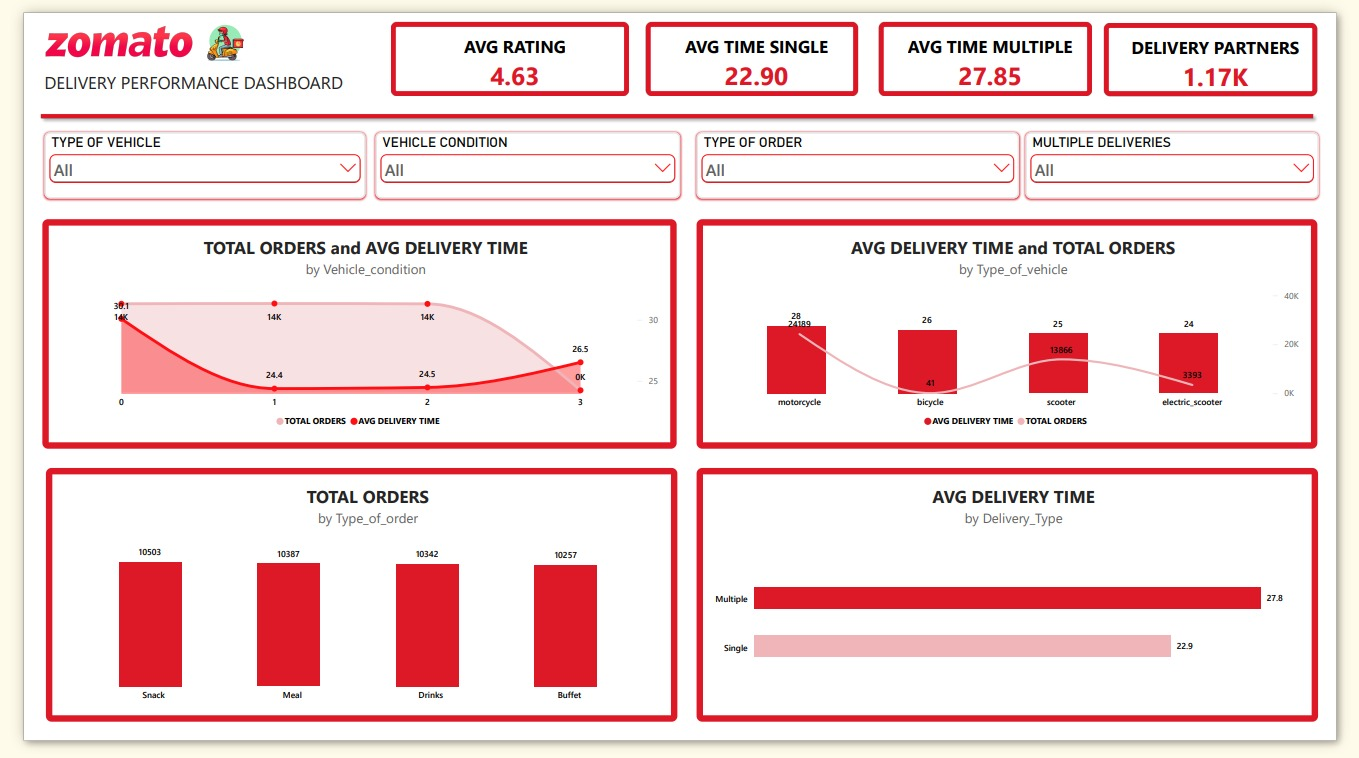

The page's visual inventory and layout, read from the dashboard file:
{"tool":"powerbi","page":{"name":"Delivery Partner Insights","canvas":[1920,1080],"ordinal":1},"visuals":[{"type":"shape","box":[20,3.6,1881.8,1060],"z":0},{"type":"image","box":[68.2,3.8,208.5,119.4],"z":1000},{"type":"textbox","box":[68.2,104.3,451.2,34.1],"z":2000},{"type":"cardVisual","fields":{"Data":["Zomato Dataset.Avg Rating"]},"box":[555.5,36,333.7,104.3],"z":3000},{"type":"shape","box":[55,123.2,1802.8,91],"z":4000},{"type":"cardVisual","fields":{"Data":["Zomato Dataset.Avg Time Single"]},"box":[911.9,36,299.5,104.3],"z":5000},{"type":"cardVisual","fields":{"Data":["Zomato Dataset.Avg Time Multiple"]},"box":[1239.8,36,299.5,104.3],"z":6000},{"type":"cardVisual","fields":{"Data":["Zomato Dataset.Delivery Partners"]},"box":[1556.4,38.2,299.5,102.4],"z":7000},{"type":"columnChart","fields":{"Category":["Zomato Dataset.Type_of_order"],"Y":["Zomato Dataset.Total Orders"]},"box":[69.6,662.5,887.5,355.4],"z":8000},{"type":"lineChart","fields":{"Category":["Zomato Dataset.Vehicle_condition"],"Y":["Zomato Dataset.Total Orders"],"Y2":["Zomato Dataset.Avg Delivery Time"]},"box":[65.5,312.7,890.9,321.8],"z":9000},{"type":"slicer","fields":{"Values":["Zomato Dataset.multiple_deliveries"]},"box":[1446.4,191.5,411.4,92.9],"z":10000},{"type":"lineClusteredColumnComboChart","fields":{"Category":["Zomato Dataset.Type_of_vehicle"],"Y":["Zomato Dataset.Avg Delivery Time"],"Y2":["Zomato Dataset.Total Orders"]},"box":[983.6,312.7,872.7,321.8],"z":11000},{"type":"clusteredBarChart","fields":{"Category":["Zomato Dataset.Delivery_Type"],"Y":["Zomato Dataset.Avg Delivery Time"]},"box":[983.9,662.5,873.2,355.4],"z":12000},{"type":"image","box":[200.9,30.3,240.8,68.2],"z":13000},{"type":"slicer","fields":{"Values":["Zomato Dataset.Type_of_order"]},"box":[983.9,191.5,453.1,92.9],"z":14000},{"type":"slicer","fields":{"Values":["Zomato Dataset.Vehicle_condition"]},"box":[532.7,191.5,428.4,92.9],"z":15000},{"type":"slicer","fields":{"Values":["Zomato Dataset.Type_of_vehicle"]},"box":[68.2,191.5,451.2,92.9],"z":16000}]}

Visuals, with their boxes in screenshot pixels (x1, y1, x2, y2), scaled from the page's 1920x1080 canvas onto the 1359x758 screenshot:
shape: <bbox>14, 3, 1346, 746</bbox>
image: <bbox>48, 3, 196, 86</bbox>
textbox: <bbox>48, 73, 368, 97</bbox>
cardVisual - Zomato Dataset.Avg Rating: <bbox>393, 25, 629, 98</bbox>
shape: <bbox>39, 86, 1315, 150</bbox>
cardVisual - Zomato Dataset.Avg Time Single: <bbox>645, 25, 857, 98</bbox>
cardVisual - Zomato Dataset.Avg Time Multiple: <bbox>878, 25, 1090, 98</bbox>
cardVisual - Zomato Dataset.Delivery Partners: <bbox>1102, 27, 1314, 99</bbox>
columnChart - Zomato Dataset.Type_of_order x Zomato Dataset.Total Orders: <bbox>49, 465, 677, 714</bbox>
lineChart - Zomato Dataset.Vehicle_condition x Zomato Dataset.Total Orders: <bbox>46, 219, 677, 445</bbox>
slicer - Zomato Dataset.multiple_deliveries: <bbox>1024, 134, 1315, 200</bbox>
lineClusteredColumnComboChart - Zomato Dataset.Type_of_vehicle x Zomato Dataset.Avg Delivery Time: <bbox>696, 219, 1314, 445</bbox>
clusteredBarChart - Zomato Dataset.Delivery_Type x Zomato Dataset.Avg Delivery Time: <bbox>696, 465, 1314, 714</bbox>
image: <bbox>142, 21, 313, 69</bbox>
slicer - Zomato Dataset.Type_of_order: <bbox>696, 134, 1017, 200</bbox>
slicer - Zomato Dataset.Vehicle_condition: <bbox>377, 134, 680, 200</bbox>
slicer - Zomato Dataset.Type_of_vehicle: <bbox>48, 134, 368, 200</bbox>
